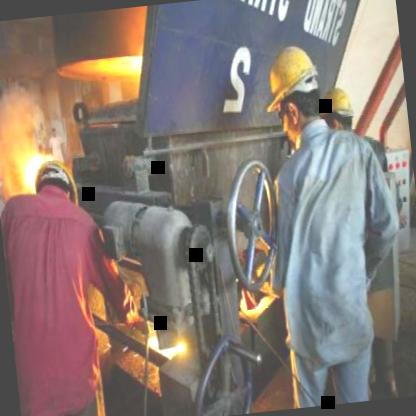helmet: (260, 36, 326, 147), (18, 148, 82, 228), (319, 86, 356, 136)
